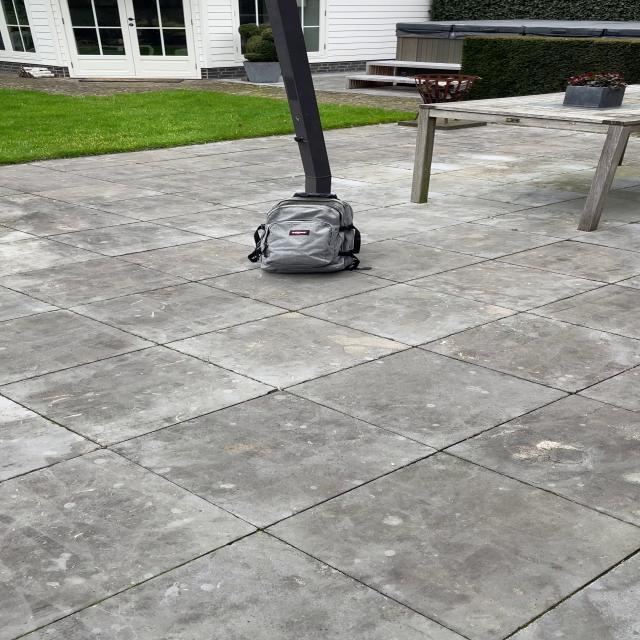backpack: (247, 190, 365, 276)
